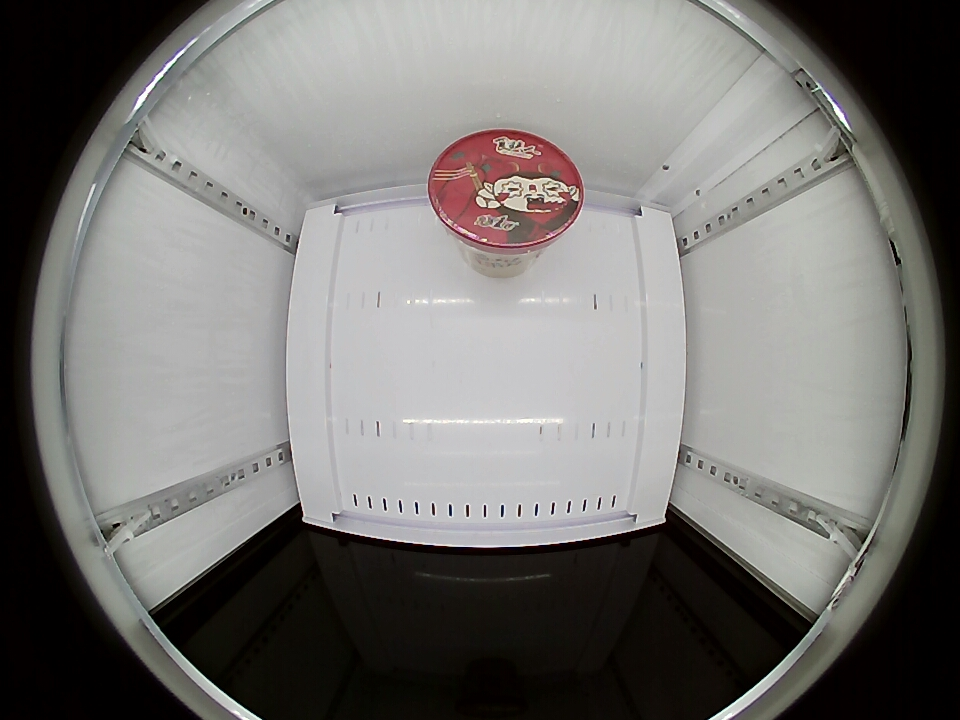suanlafen: (427, 130, 585, 260)
